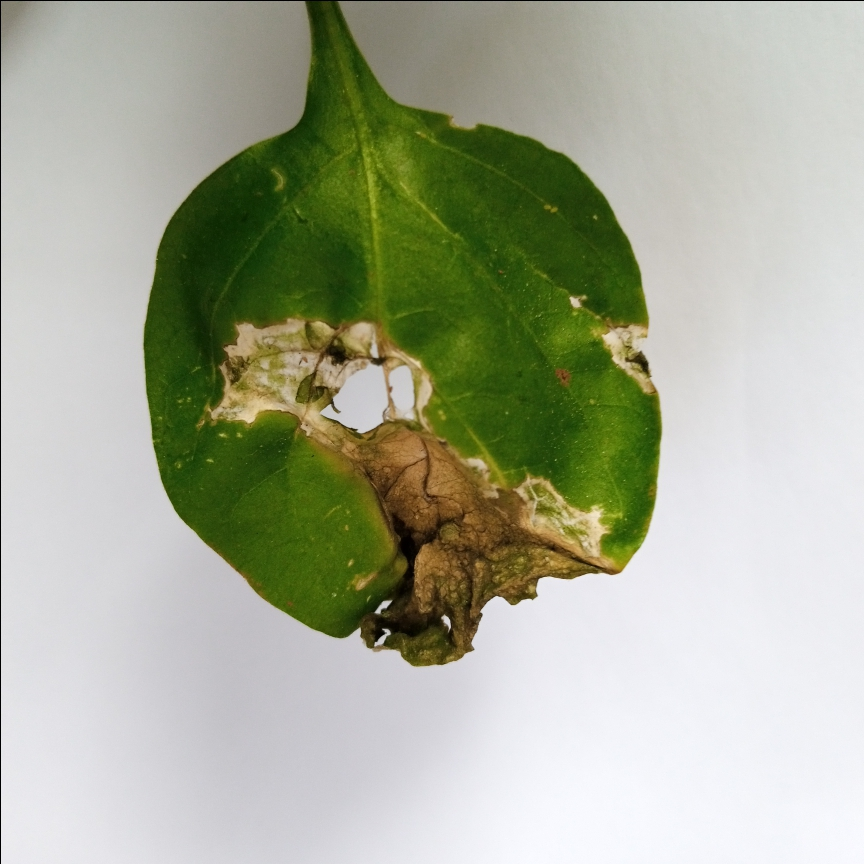Leaf: (86, 60, 720, 705)
